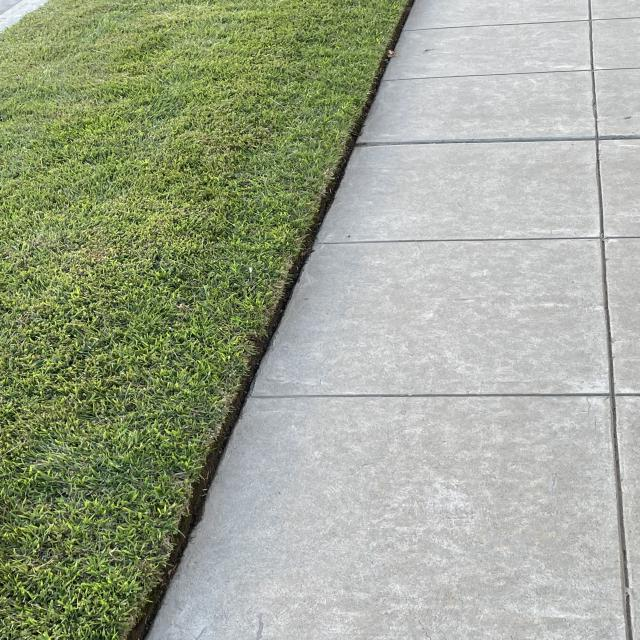walkway: (235, 429, 638, 640), (288, 278, 640, 436), (336, 172, 640, 304)
walkway-edge: (154, 297, 280, 531), (256, 162, 340, 398), (142, 424, 226, 640), (318, 43, 390, 211)
